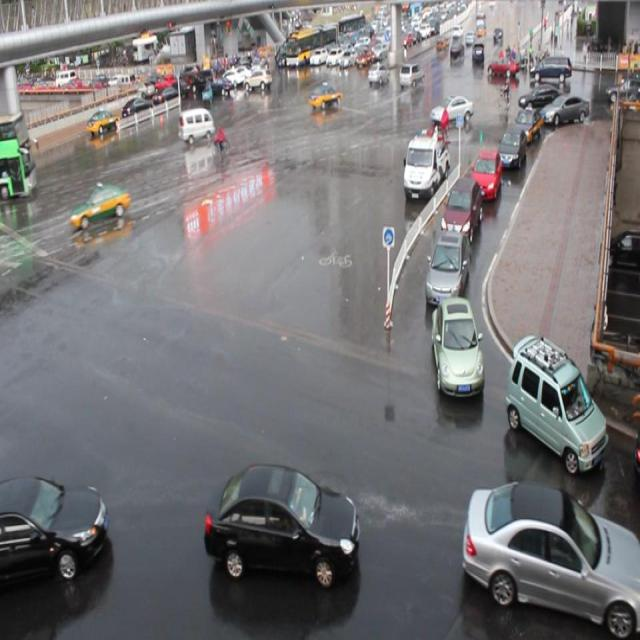bus: (402, 127, 450, 201)
car: (460, 479, 640, 640), (204, 463, 359, 585), (503, 327, 609, 472), (1, 468, 107, 582), (431, 296, 483, 399), (424, 228, 468, 304), (70, 182, 130, 228), (440, 175, 480, 240), (469, 148, 501, 199), (539, 92, 588, 124), (495, 125, 526, 169), (429, 94, 472, 123), (518, 83, 562, 111), (512, 107, 542, 143), (309, 82, 342, 109)
truck: (178, 106, 214, 138)
van: (1, 115, 36, 193)
